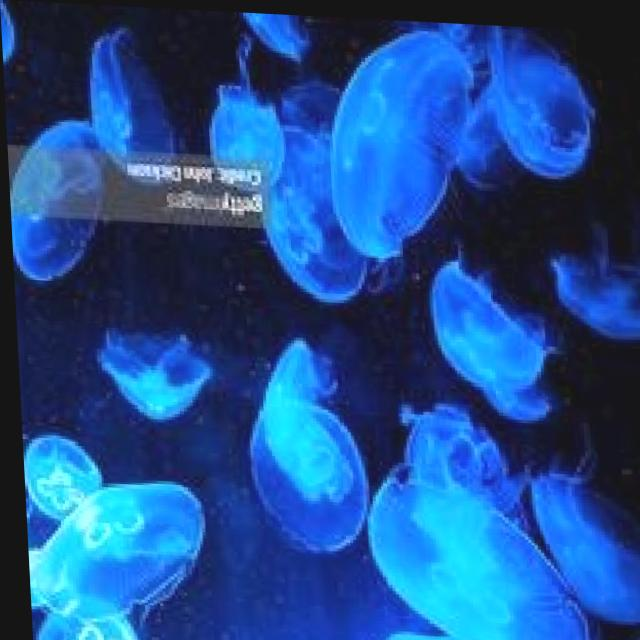Moon-jellyfish: (296, 14, 494, 320), (218, 334, 386, 575), (397, 241, 573, 424), (32, 476, 217, 637)
